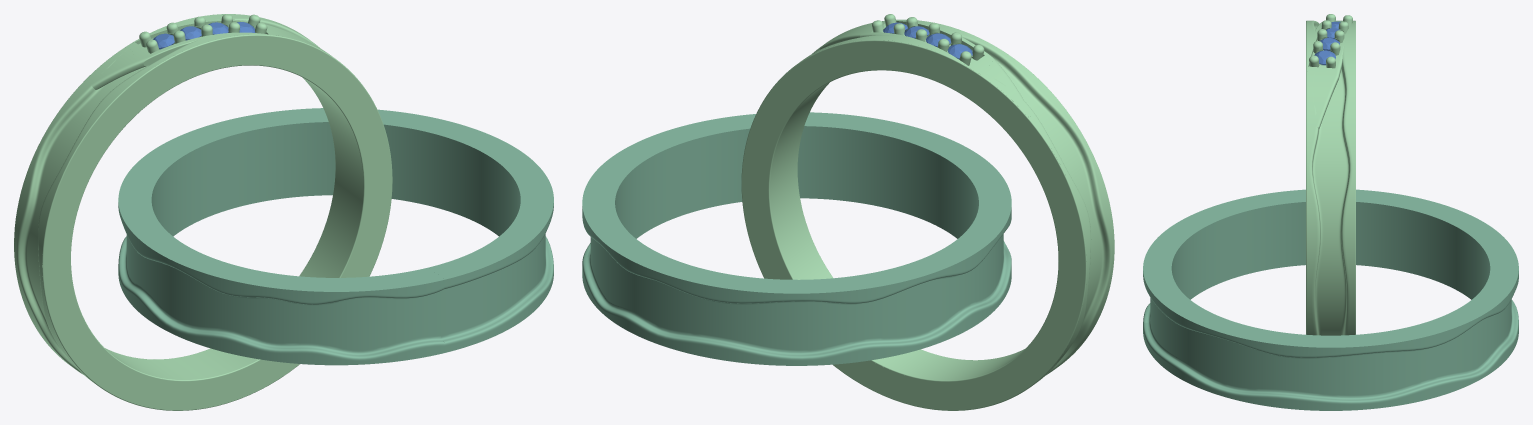
3 renders of one model, left to right at view 1: azimuth 30°, elevation 25°; view 2: azimuth 150°, elevation 25°; view 3: azimuth 270°, elevation 25°, orthographic. The views are drawn at different scales.
Parts seen in each view (by area): view 1: Anel26 Rendeer Par Aliança.3dm; view 2: Anel26 Rendeer Par Aliança.3dm; view 3: Anel26 Rendeer Par Aliança.3dm.
Boxes of the visible parts, x1,y1,x2,y2 form: Anel26 Rendeer Par Aliança.3dm: (14, 14, 553, 410); Anel26 Rendeer Par Aliança.3dm: (582, 14, 1114, 410); Anel26 Rendeer Par Aliança.3dm: (1143, 14, 1518, 410).
Size of the model in its own units: 2.76 by 1.99 by 2.1.
